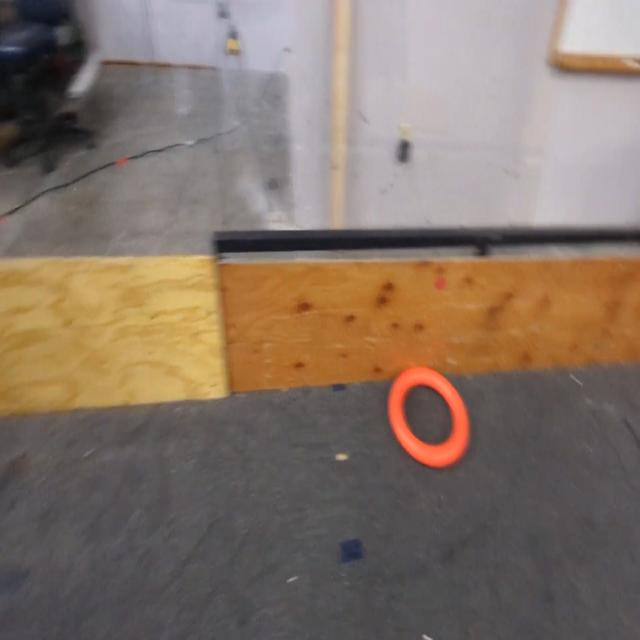note: (388, 368, 470, 466)
